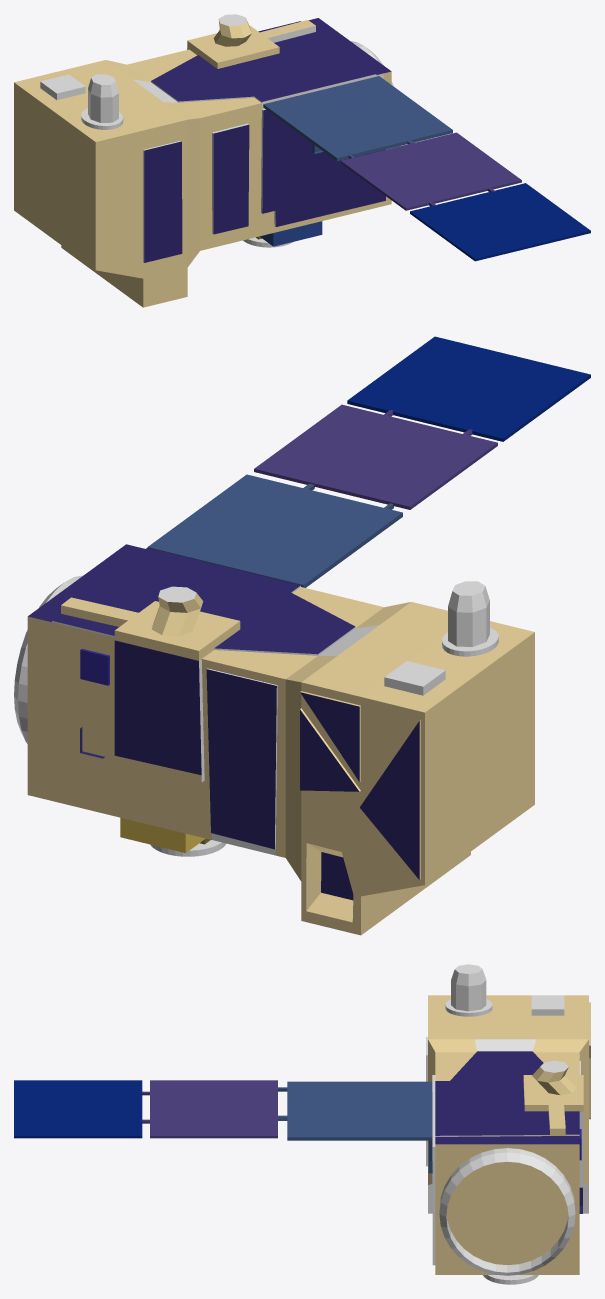
Rendered from sentinel2.glb.
3 views of the same model, one above another, from view 1: azimuth 30°, elevation 25°; view 2: azimuth 150°, elevation 25°; view 3: azimuth 270°, elevation 25° (orthographic). The views are drawn at different scales.
Visible parts, largest first — view 1: Cube, Cubo.005, Cubo.006, Cubo.007, Cilindro.005, Cilindro.002, Cubo.002, Cubo.008, Cilindro.004; view 2: Cube, Cubo.005, Cubo.006, Cubo.007, Cilindro.005, Cilindro.002, Cubo.003, Cubo.008, Cilindro, Cubo; view 3: Cube, Cubo.005, Cubo.006, Cubo.007, Cilindro, Cilindro.005, Cilindro.002, Cubo.008, Cilindro.003.
Boxes of the visible parts, left/top/right/bottom form: Cube: left=14, top=18, right=391, bottom=307; Cubo.005: left=263, top=76, right=452, bottom=161; Cubo.006: left=340, top=132, right=521, bottom=210; Cubo.007: left=410, top=183, right=590, bottom=261; Cilindro.005: left=88, top=74, right=118, bottom=122; Cilindro.002: left=213, top=14, right=251, bottom=46; Cubo.002: left=260, top=221, right=322, bottom=246; Cubo.008: left=40, top=74, right=85, bottom=99; Cilindro.004: left=81, top=108, right=123, bottom=129; Cube: left=27, top=544, right=534, bottom=935; Cubo.005: left=147, top=474, right=402, bottom=587; Cubo.006: left=254, top=404, right=497, bottom=509; Cubo.007: left=347, top=336, right=590, bottom=441; Cilindro.005: left=448, top=581, right=489, bottom=646; Cilindro.002: left=151, top=586, right=203, bottom=635; Cubo.003: left=120, top=817, right=205, bottom=852; Cubo.008: left=384, top=661, right=445, bottom=695; Cilindro: left=14, top=575, right=82, bottom=743; Cubo: left=80, top=648, right=109, bottom=685; Cube: left=426, top=995, right=590, bottom=1274; Cubo.005: left=278, top=1081, right=432, bottom=1173; Cubo.006: left=140, top=1080, right=277, bottom=1138; Cubo.007: left=14, top=1080, right=142, bottom=1138; Cilindro: left=439, top=1148, right=575, bottom=1275; Cilindro.005: left=451, top=964, right=486, bottom=1011; Cilindro.002: left=532, top=1060, right=576, bottom=1095; Cubo.008: left=531, top=995, right=564, bottom=1015; Cilindro.003: left=483, top=1275, right=538, bottom=1284.
Size of the model in its own units: 9.83 by 6.48 by 15.83.
